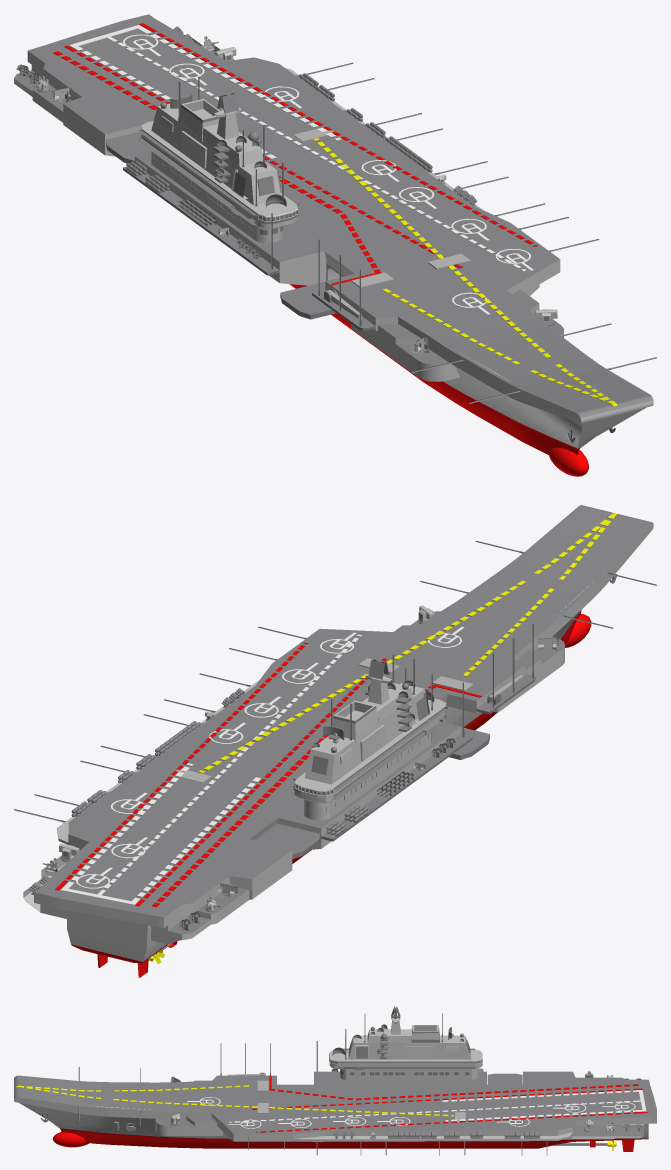
3 views of the same model, one above another, from view 1: azimuth 30°, elevation 25°; view 2: azimuth 150°, elevation 25°; view 3: azimuth 270°, elevation 25° (orthographic). The views are drawn at different scales.
Visible parts, largest first — view 1: hm2; view 2: hm2; view 3: hm2.
Boxes of the visible parts, box(x1,y1,x2,y2) form: hm2: box(14, 14, 656, 476); hm2: box(14, 505, 656, 977); hm2: box(14, 1006, 656, 1155).
Bounding box in the file's own units: 3.95 × 2.64 × 13.09.
